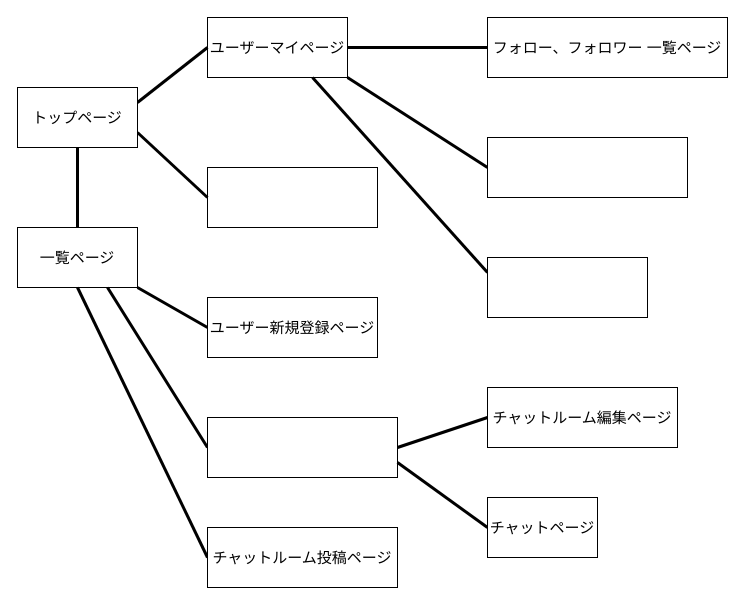
The diagram is 745 pixels wide and 605 high, and some of its shapes have lost their labels. Each missing label, with the centre of its shape:
"ダイレクトメッセージページ" goes at point (587, 167).
"チャットルーム詳細ページ" goes at point (302, 447).
"マイページ編集ページ" goes at point (567, 287).
"ユーザーログインページ" goes at point (292, 197).
